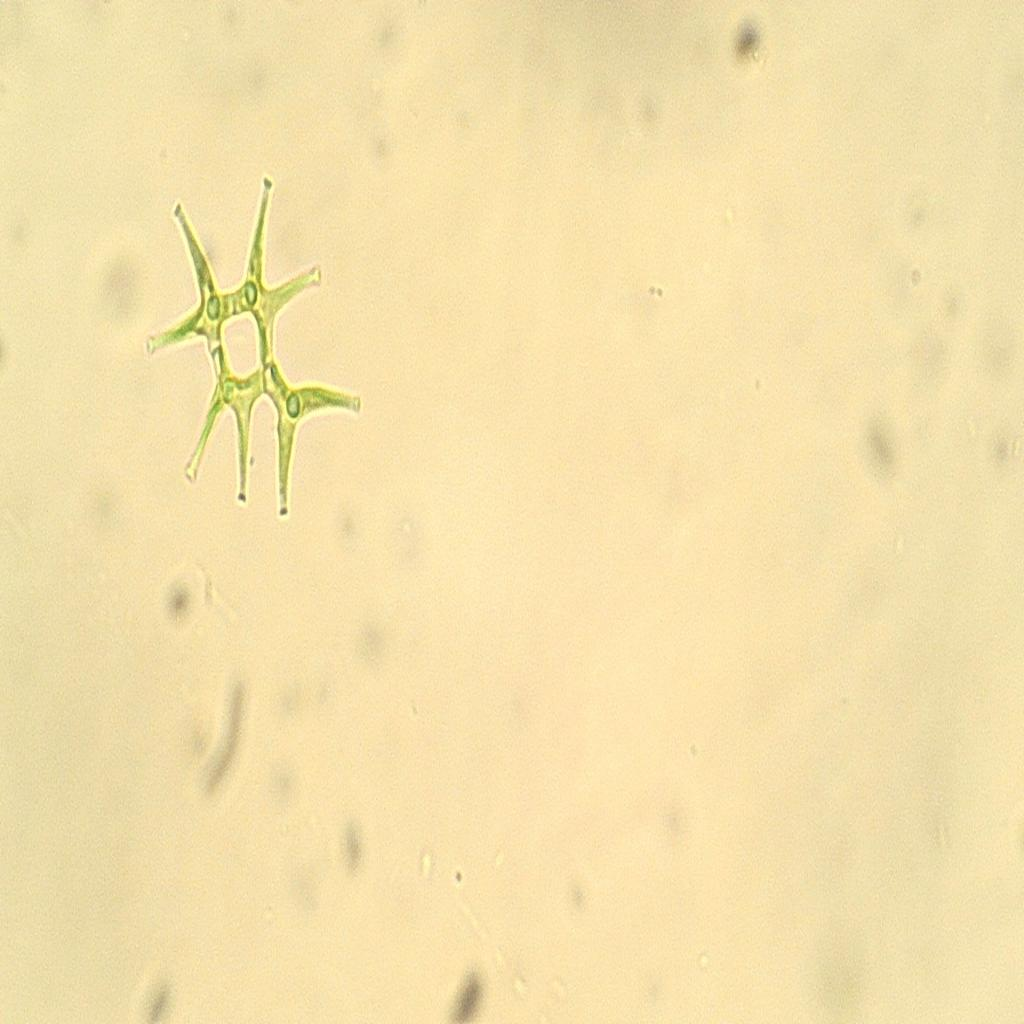Pediastrum_CT: (134, 159, 378, 556)
